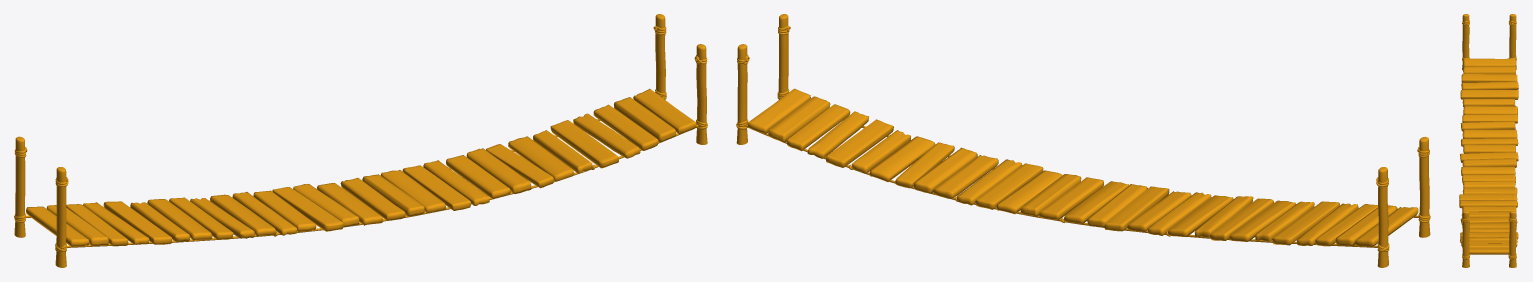
Rendered from Bridge_Savannah.fbx.
The picture shows the model from 3 angles, left to right: view 1: azimuth 30°, elevation 25°; view 2: azimuth 150°, elevation 25°; view 3: azimuth 270°, elevation 25°; orthographic projection. The views are drawn at different scales.
Parts seen in each view (by area): view 1: Object_4; view 2: Object_4; view 3: Object_4.
Boxes of the visible parts, x1=… form: Object_4: x1=14, y1=14, x2=707, y2=267; Object_4: x1=736, y1=14, x2=1430, y2=267; Object_4: x1=1459, y1=14, x2=1518, y2=267.
Bounding box in the file's own units: 2031 × 409 × 283.
